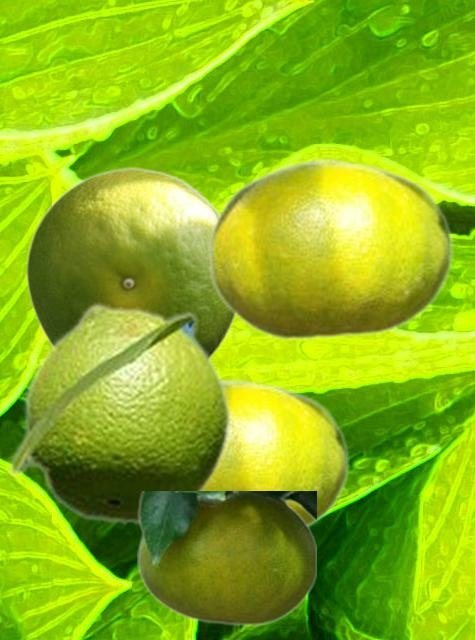dalandan: (6, 302, 232, 525), (207, 157, 452, 341), (25, 166, 235, 356), (137, 491, 315, 625), (207, 378, 348, 527)
